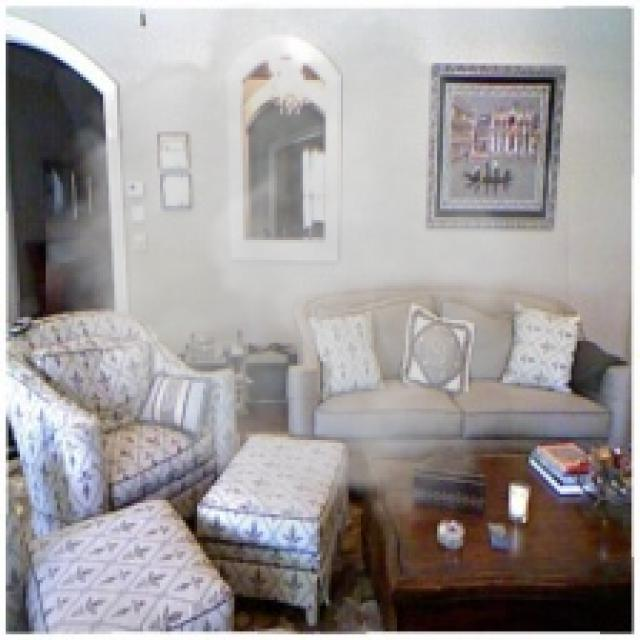smoke: (46, 3, 568, 543)
